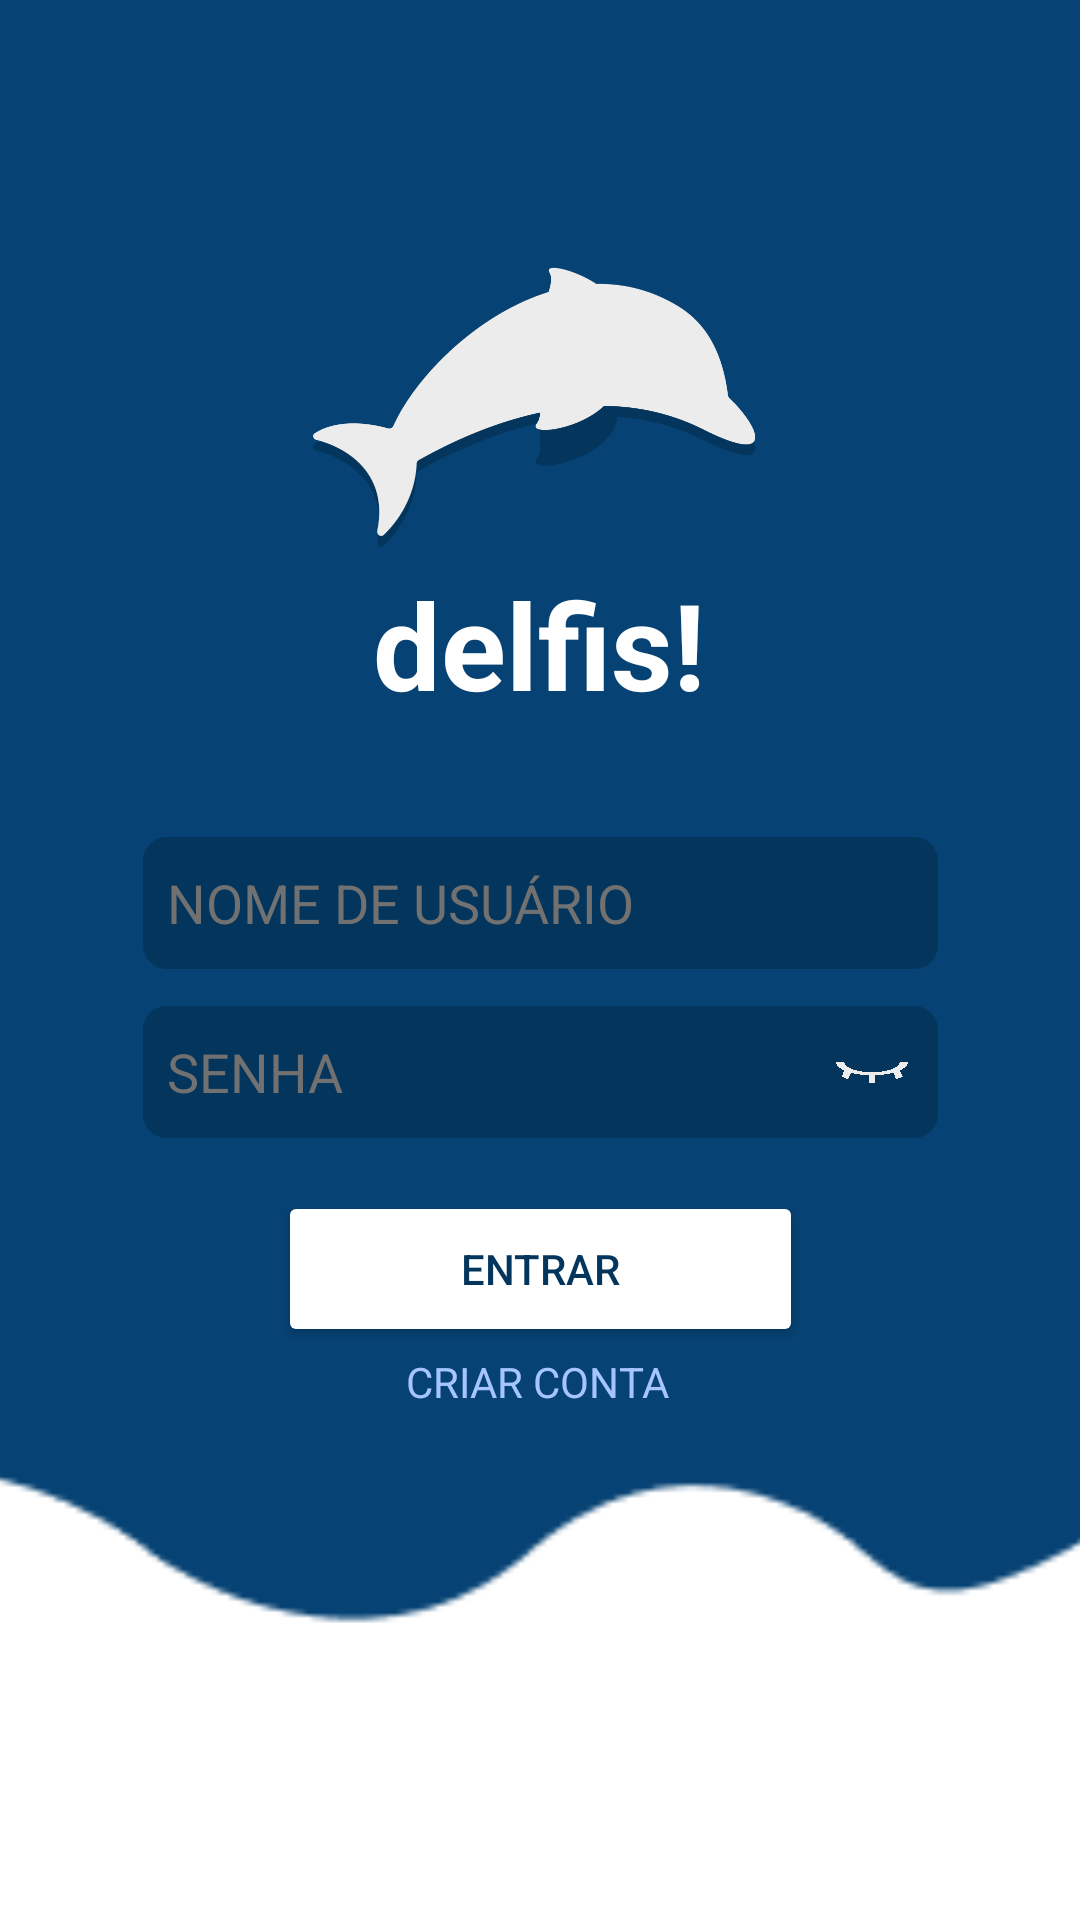

Point at icon controls on the screen. Image size 1080px x 1920px, points as (x,y).
olhofechado: (872,1072)
